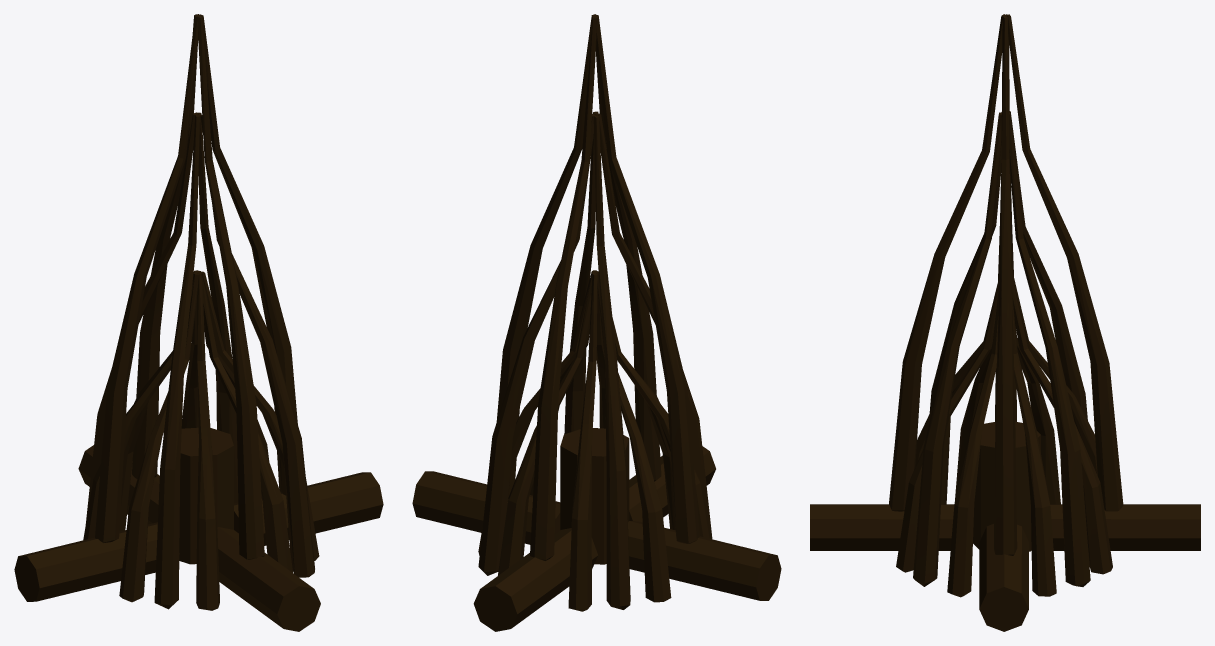
Rendered from Campfire.fbx.
3 renders of one model, left to right at view 1: azimuth 30°, elevation 25°; view 2: azimuth 150°, elevation 25°; view 3: azimuth 270°, elevation 25°, orthographic.
Visible parts, largest first — view 1: Cylinder.008; view 2: Cylinder.008; view 3: Cylinder.008.
Boxes of the visible parts, x1=… form: Cylinder.008: x1=14, y1=14, x2=383, y2=631; Cylinder.008: x1=412, y1=14, x2=781, y2=631; Cylinder.008: x1=810, y1=14, x2=1200, y2=631.
Bounding box in the file's own units: 186 × 283 × 186.
